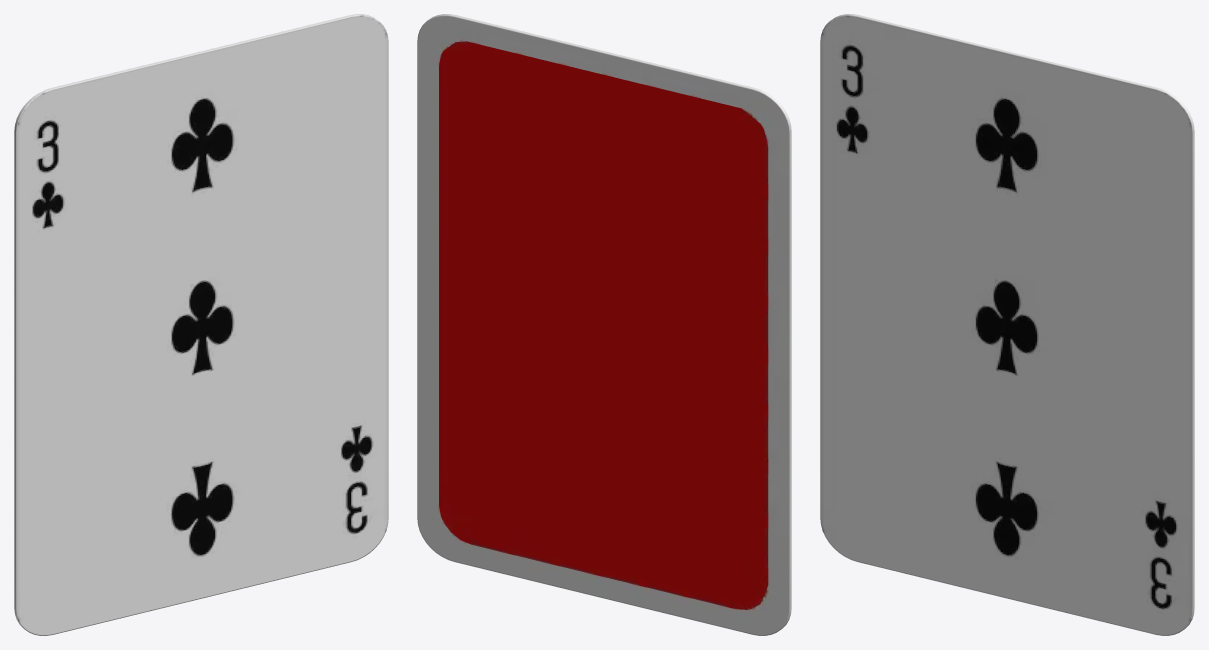
File: clubs_3.glb
3 views of the same model, side by side, from view 1: azimuth 30°, elevation 25°; view 2: azimuth 150°, elevation 25°; view 3: azimuth 330°, elevation 25° (orthographic).
Visible parts, largest first — view 1: defaultMaterial.021; view 2: defaultMaterial.021; view 3: defaultMaterial.021.
Boxes of the visible parts, box(x1,y1,x2,y2) form: defaultMaterial.021: box(14, 14, 388, 635); defaultMaterial.021: box(417, 14, 791, 635); defaultMaterial.021: box(820, 14, 1194, 635).
Bounding box in the file's own units: 0.1408 × 0.1972 × 0.00111.
1 material, 1 textured.
